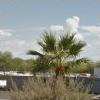Palm tree: (31, 28, 82, 81)
